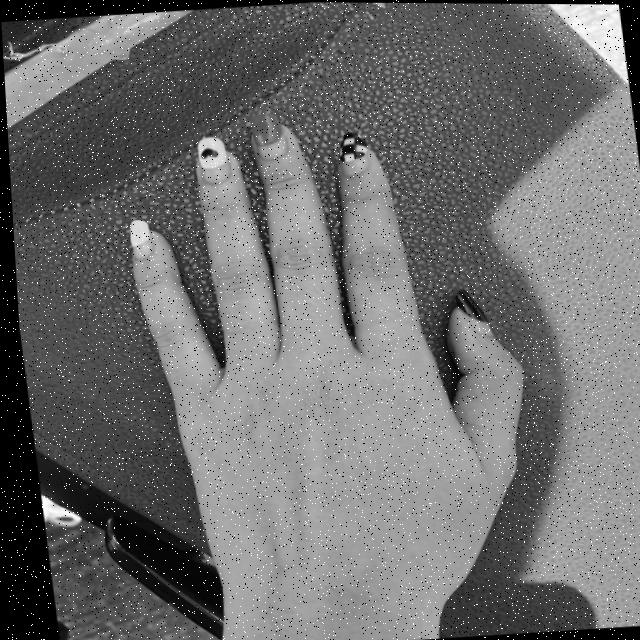hand: (105, 90, 545, 607)
